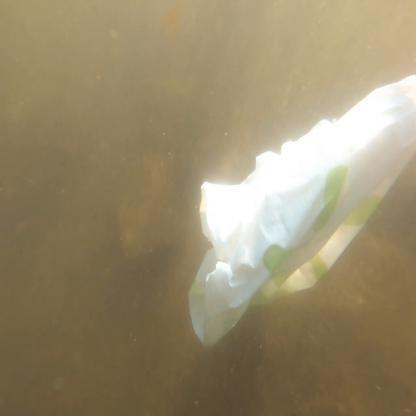Rác: (190, 75, 415, 298)
